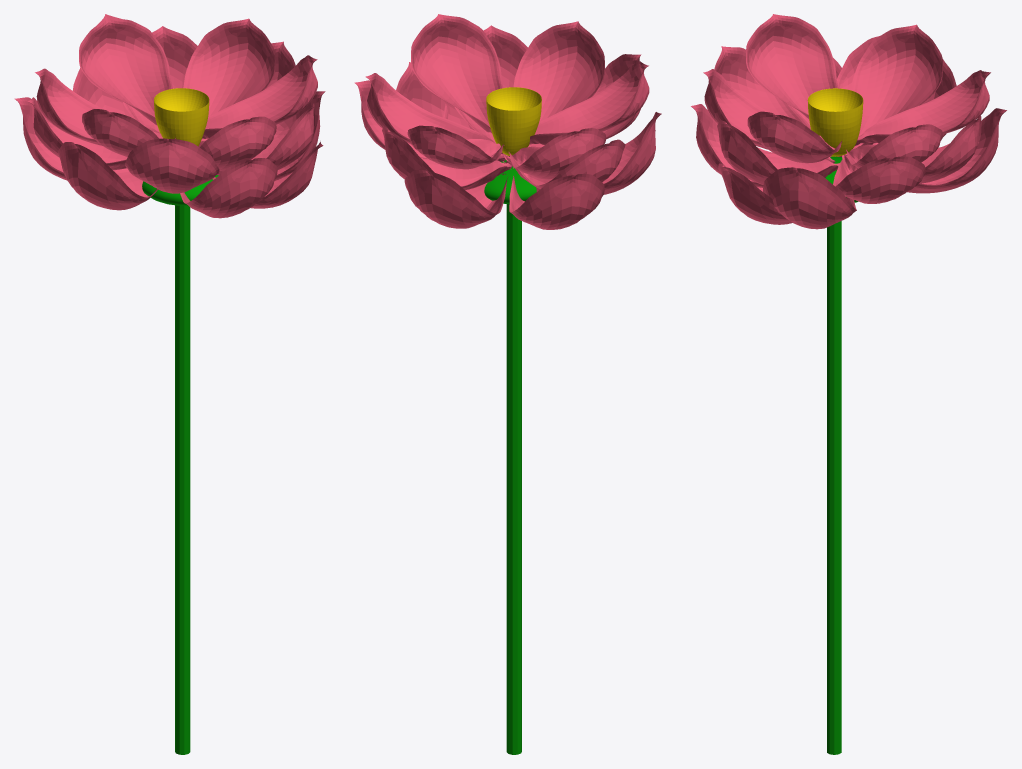
File: Lotus081.fbx
3 views of the same model, side by side, from view 1: azimuth 30°, elevation 25°; view 2: azimuth 150°, elevation 25°; view 3: azimuth 270°, elevation 25° (orthographic).
Parts seen in each view (by area): view 1: pCylinder1, nurbsToPoly23, nurbsToPoly19, nurbsToPoly16, nurbsToPoly11, nurbsToPoly22, nurbsToPoly8, pSphere3, nurbsToPoly18, nurbsToPoly20, nurbsToPoly21, nurbsToPoly17 (+8 smaller); view 2: pCylinder1, nurbsToPoly22, nurbsToPoly18, nurbsToPoly21, nurbsToPoly10, nurbsToPoly12, pSphere3, nurbsToPoly19, nurbsToPoly23, nurbsToPoly20, nurbsToPoly17, nurbsToPoly11 (+6 smaller); view 3: pCylinder1, nurbsToPoly20, nurbsToPoly21, nurbsToPoly9, nurbsToPoly23, nurbsToPoly15, pSphere3, nurbsToPoly22, nurbsToPoly13, nurbsToPoly19, nurbsToPoly16, nurbsToPoly10 (+5 smaller).
Boxes of the visible parts, box(x1,y1,x2,y2) form: pCylinder1: box(175, 205, 190, 754); nurbsToPoly23: box(79, 14, 172, 125); nurbsToPoly19: box(183, 18, 275, 116); nurbsToPoly16: box(125, 138, 219, 193); nurbsToPoly11: box(58, 142, 157, 210); nurbsToPoly22: box(202, 55, 317, 138); nurbsToPoly8: box(180, 158, 277, 218); pSphere3: box(154, 88, 209, 146); nurbsToPoly18: box(198, 116, 276, 170); nurbsToPoly20: box(35, 68, 160, 145); nurbsToPoly21: box(82, 109, 175, 156); nurbsToPoly17: box(123, 26, 197, 132); pCylinder1: box(506, 204, 521, 754); nurbsToPoly22: box(411, 14, 503, 133); nurbsToPoly18: box(513, 21, 604, 121); nurbsToPoly21: box(529, 61, 649, 144); nurbsToPoly10: box(404, 170, 508, 228); nurbsToPoly12: box(509, 167, 604, 229); pSphere3: box(486, 87, 541, 155); nurbsToPoly19: box(365, 73, 502, 153); nurbsToPoly23: box(407, 125, 504, 169); nurbsToPoly20: box(508, 128, 605, 178); nurbsToPoly17: box(382, 126, 512, 190); nurbsToPoly11: box(602, 112, 661, 194); pCylinder1: box(827, 221, 841, 754); nurbsToPoly20: box(851, 24, 942, 145); nurbsToPoly21: box(746, 14, 838, 119); nurbsToPoly9: box(763, 167, 856, 229); nurbsToPoly23: box(856, 70, 990, 143); nurbsToPoly15: box(833, 154, 925, 203); pSphere3: box(807, 88, 863, 156); nurbsToPoly22: box(747, 111, 841, 163); nurbsToPoly13: box(717, 120, 839, 184); nurbsToPoly19: box(846, 124, 942, 168); nurbsToPoly16: box(714, 46, 835, 163); nurbsToPoly10: box(907, 108, 1006, 193).
Bounding box in the file's own units: 19.07 × 48.51 × 20.26.
